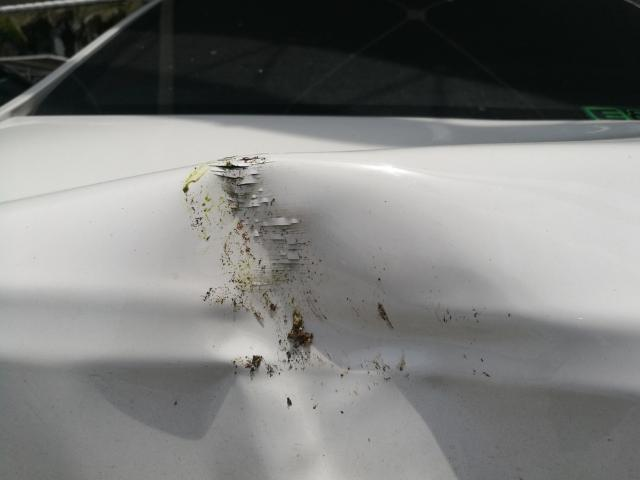dent: (87, 155, 519, 480)
